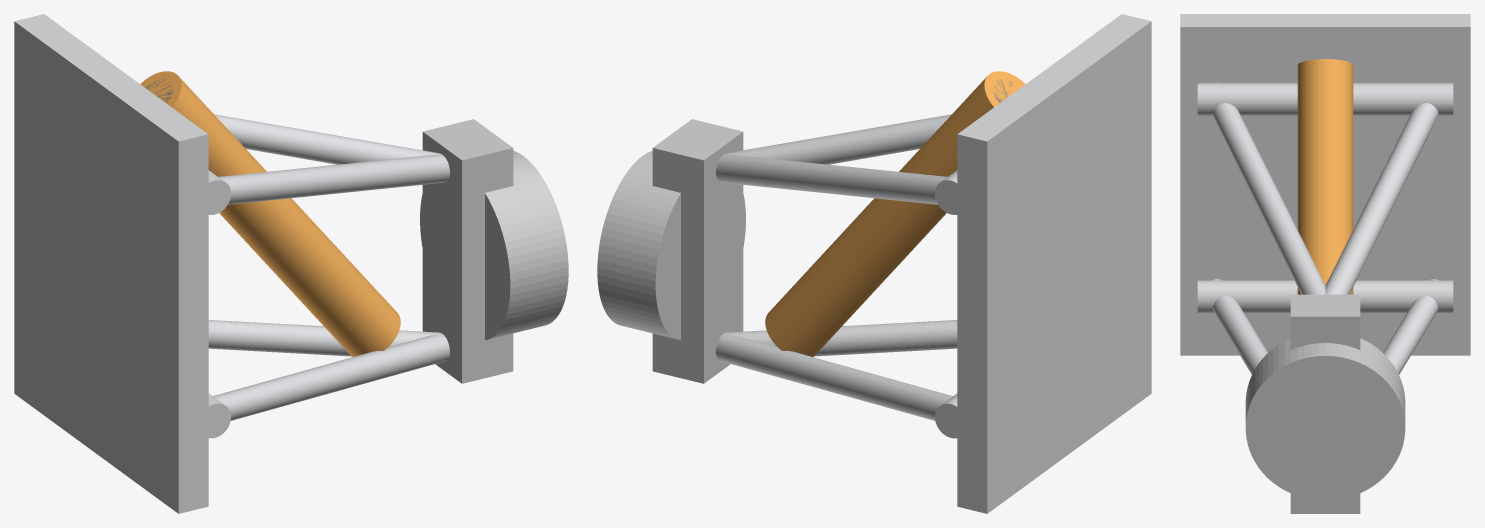
The model's file is rover17_suspension_arm_s_susp_down.glb.
3 renders of one model, left to right at view 1: azimuth 30°, elevation 25°; view 2: azimuth 150°, elevation 25°; view 3: azimuth 270°, elevation 25°, orthographic. The views are drawn at different scales.
Parts seen in each view (by area): view 1: mount_plate, arm_upright, spring, arm_upper, arm_lower; view 2: mount_plate, arm_upright, spring, arm_upper, arm_lower; view 3: mount_plate, arm_upright, arm_upper, spring, arm_lower.
Part boxes in pixels (x1,y1,x2,y2): mount_plate: [14, 14, 208, 513]; arm_upright: [420, 119, 568, 383]; spring: [140, 71, 400, 356]; arm_upper: [208, 114, 449, 214]; arm_lower: [208, 320, 449, 438]; mount_plate: [957, 14, 1151, 513]; arm_upright: [597, 119, 745, 383]; spring: [765, 71, 1025, 356]; arm_upper: [716, 114, 957, 214]; arm_lower: [716, 320, 957, 438]; mount_plate: [1180, 14, 1470, 355]; arm_upright: [1245, 294, 1405, 513]; arm_upper: [1197, 82, 1453, 294]; spring: [1297, 59, 1353, 294]; arm_lower: [1197, 279, 1453, 374].
Bounding box in the file's own units: 0.3 × 0.25 × 0.2.
